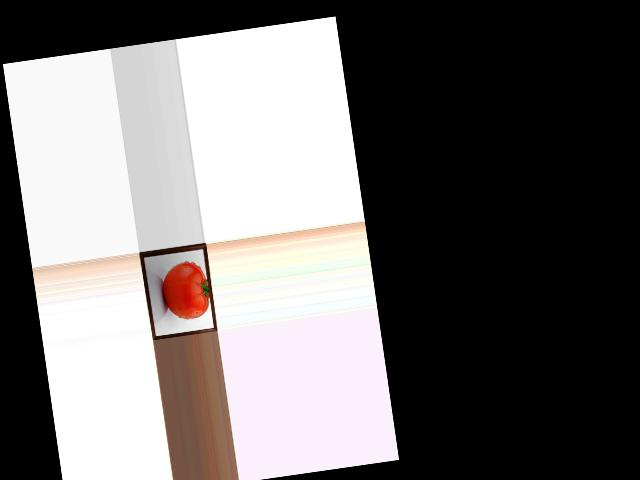tomato: (158, 259, 212, 321)
